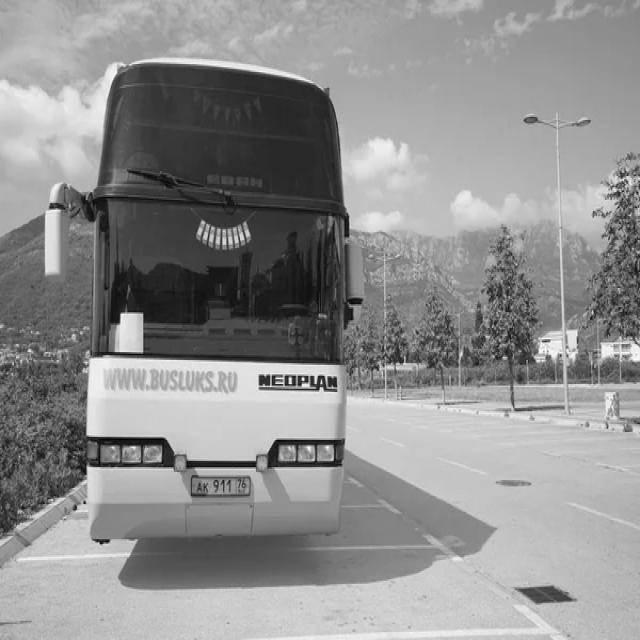Bus: (44, 58, 365, 542)
